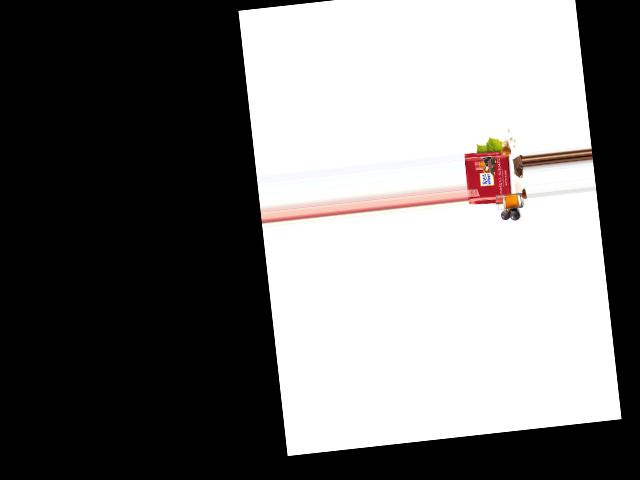chocolate: (464, 147, 512, 204)
